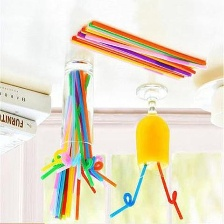drinking_straw: (65, 18, 211, 84), (107, 160, 149, 220), (152, 158, 188, 220)
glass: (55, 56, 100, 153), (132, 81, 175, 181)
